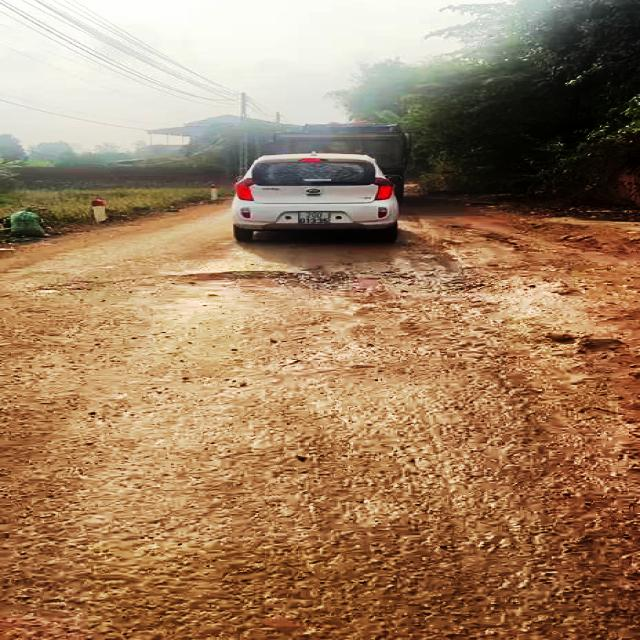pothole: (157, 270, 494, 294)
